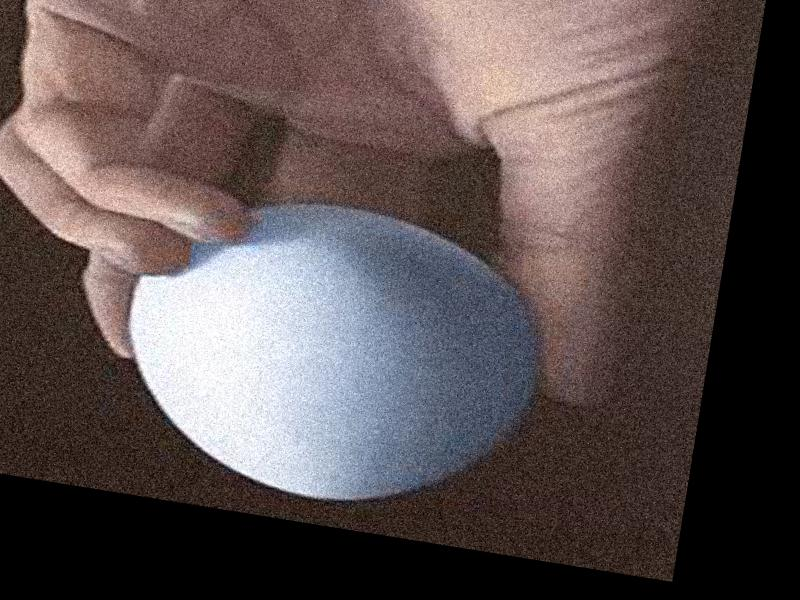Eggs: (101, 178, 554, 531)
